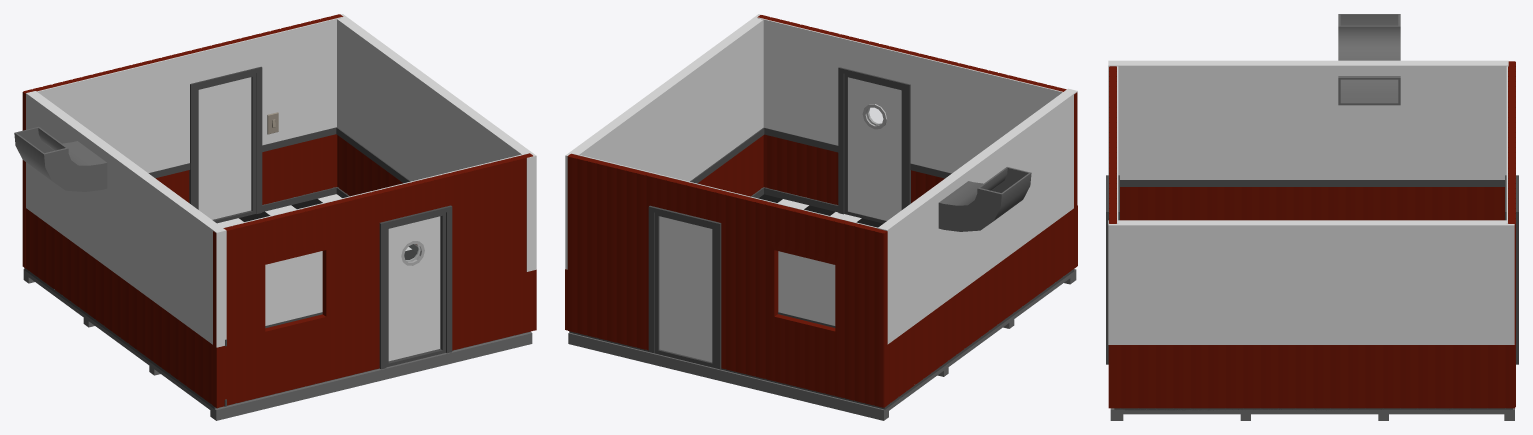
File: room.fbx
The picture shows the model from 3 angles, left to right: view 1: azimuth 30°, elevation 25°; view 2: azimuth 150°, elevation 25°; view 3: azimuth 270°, elevation 25°; orthographic projection. The views are drawn at different scales.
Parts seen in each view (by area): view 1: frontWall (×2), backWallDrywall2 (×2), backWallDywall1, frontWallDywall1, smallWallnoDoor (×2), doorPanel, doorPanel1, foundation, wallDoorFrame (×2), vent, insideDoorFrame (×2), tiles1 (+3 smaller); view 2: frontWall (×2), backWallDrywall2 (×2), backWallDywall1, frontWallDywall1, smallWallnoDoor (×2), doorPanel, doorPanel1, foundation, wallDoorFrame (×2), vent, insideDoorFrame (×2), tiles1 (+3 smaller); view 3: frontWallDywall1, backWallDywall1, smallWallnoDoor (×2), vent, frontWall (×2), backWallPanellingTop1, foundation, wallDoorFrame (×2), tiles1.
Part boxes in pixels (bbox=[...]): frontWall (×2): bbox=[22, 14, 533, 407]; backWallDrywall2 (×2): bbox=[37, 17, 528, 325]; backWallDywall1: bbox=[26, 91, 226, 347]; frontWallDywall1: bbox=[337, 14, 536, 271]; smallWallnoDoor (×2): bbox=[26, 135, 536, 408]; doorPanel: bbox=[198, 77, 251, 219]; doorPanel1: bbox=[388, 216, 440, 361]; foundation: bbox=[23, 269, 532, 420]; wallDoorFrame (×2): bbox=[189, 66, 452, 369]; vent: bbox=[14, 126, 107, 191]; insideDoorFrame (×2): bbox=[196, 73, 445, 367]; tiles1: bbox=[24, 194, 530, 408]; frontWall (×2): bbox=[567, 15, 1077, 407]; backWallDrywall2 (×2): bbox=[572, 17, 1062, 325]; backWallDywall1: bbox=[877, 88, 1077, 344]; frontWallDywall1: bbox=[565, 14, 763, 269]; smallWallnoDoor (×2): bbox=[565, 135, 1077, 404]; doorPanel: bbox=[659, 216, 712, 362]; doorPanel1: bbox=[848, 77, 901, 220]; foundation: bbox=[568, 269, 1076, 420]; wallDoorFrame (×2): bbox=[648, 67, 910, 369]; vent: bbox=[938, 167, 1031, 231]; insideDoorFrame (×2): bbox=[654, 73, 904, 367]; tiles1: bbox=[569, 194, 1074, 409]; frontWallDywall1: bbox=[1108, 220, 1514, 344]; backWallDywall1: bbox=[1108, 60, 1508, 179]; smallWallnoDoor (×2): bbox=[1108, 187, 1515, 408]; vent: bbox=[1338, 14, 1400, 105]; frontWall (×2): bbox=[1109, 61, 1515, 406]; backWallPanellingTop1: bbox=[1120, 180, 1504, 186]; foundation: bbox=[1110, 408, 1514, 420]; wallDoorFrame (×2): bbox=[1106, 175, 1518, 364]; tiles1: bbox=[1114, 408, 1512, 410].
Bounding box in the file's own units: 20.7 × 10.47 × 18.42.
